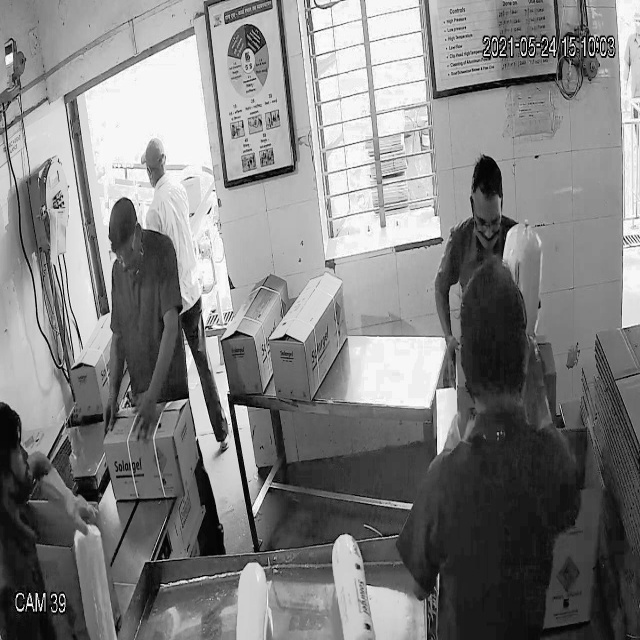Gafas: (470, 200, 506, 236)
